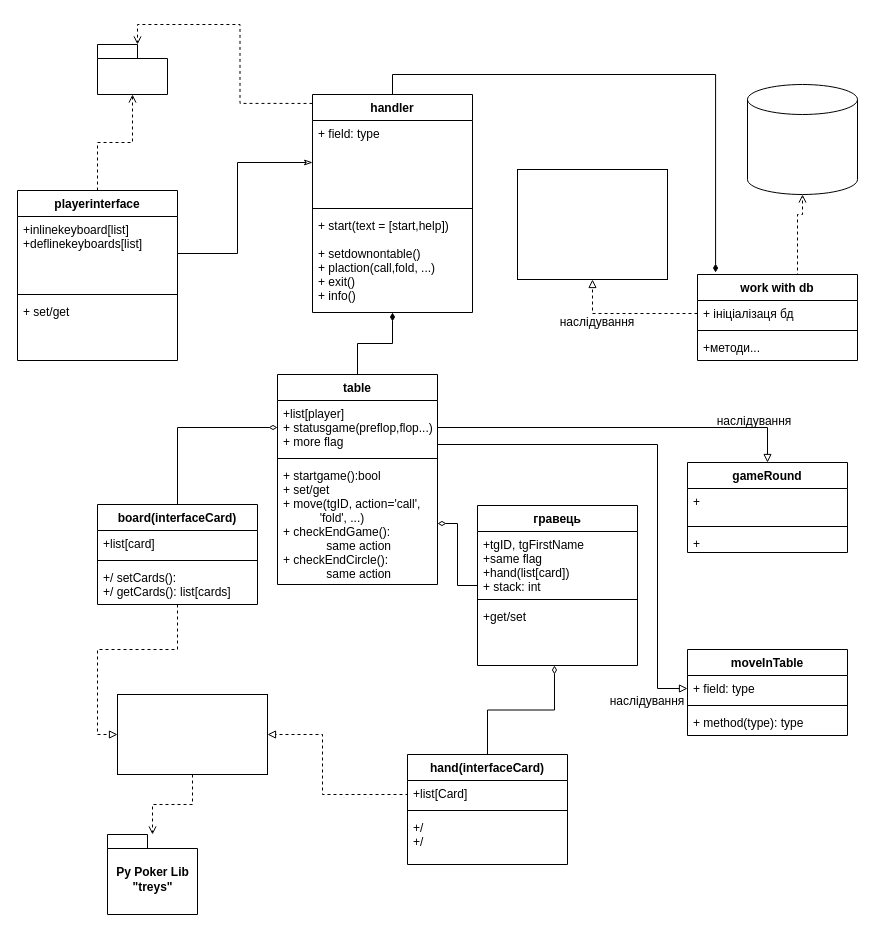
Some shapes in this 875 by 932 pixel diagram are drawn without their labels. Each missing label, with the centre of its shape:
aiogram: the point at 132,69
DataBase: the point at 802,139
«abstract» singleton в даному класі буде шаблон проектування сінгелтон: the point at 592,224
«interface» interfaceCard +setCards(): +getCards():list[cards]: the point at 192,734
